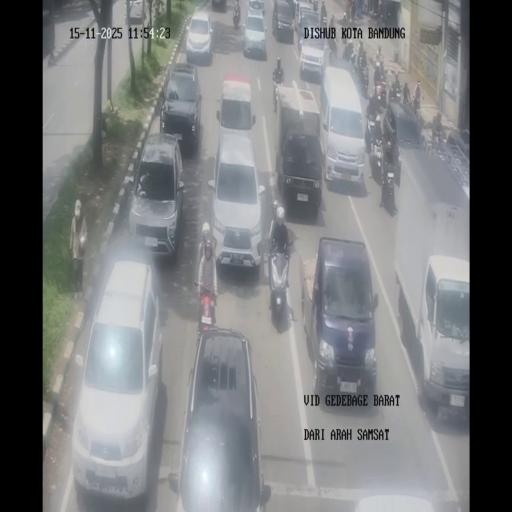3: (394, 144, 470, 424), (274, 78, 323, 216), (320, 66, 366, 190)
car: (71, 258, 162, 502), (172, 327, 270, 511), (306, 236, 378, 404), (210, 125, 265, 270), (128, 131, 185, 261), (160, 60, 202, 150), (383, 99, 424, 186), (218, 73, 254, 138), (185, 8, 213, 66), (294, 2, 321, 53), (271, 0, 296, 42), (446, 128, 470, 165), (126, 0, 145, 23), (248, 0, 265, 17)
truck: (266, 236, 292, 326), (197, 282, 218, 331), (366, 114, 382, 153), (272, 73, 283, 114), (374, 80, 387, 108), (358, 64, 369, 96), (388, 81, 402, 104), (342, 13, 352, 43), (328, 30, 338, 59), (412, 95, 422, 120), (374, 53, 384, 77), (402, 81, 412, 104), (432, 125, 444, 144), (350, 45, 358, 70), (153, 0, 163, 20), (378, 2, 386, 24), (233, 6, 240, 30), (320, 2, 327, 25), (358, 44, 366, 64), (350, 0, 355, 22), (330, 14, 336, 28), (312, 0, 318, 11)
